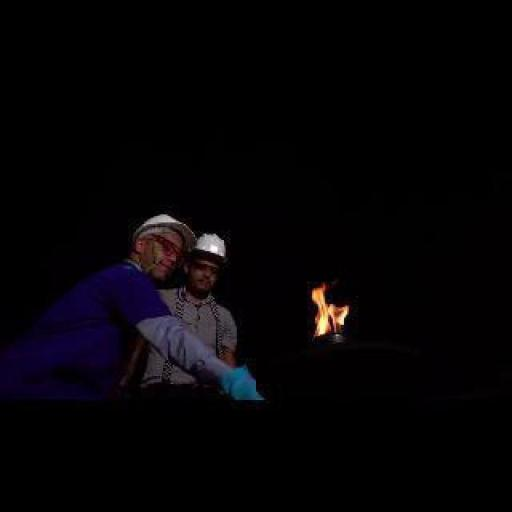smoke: (309, 280, 349, 333)
